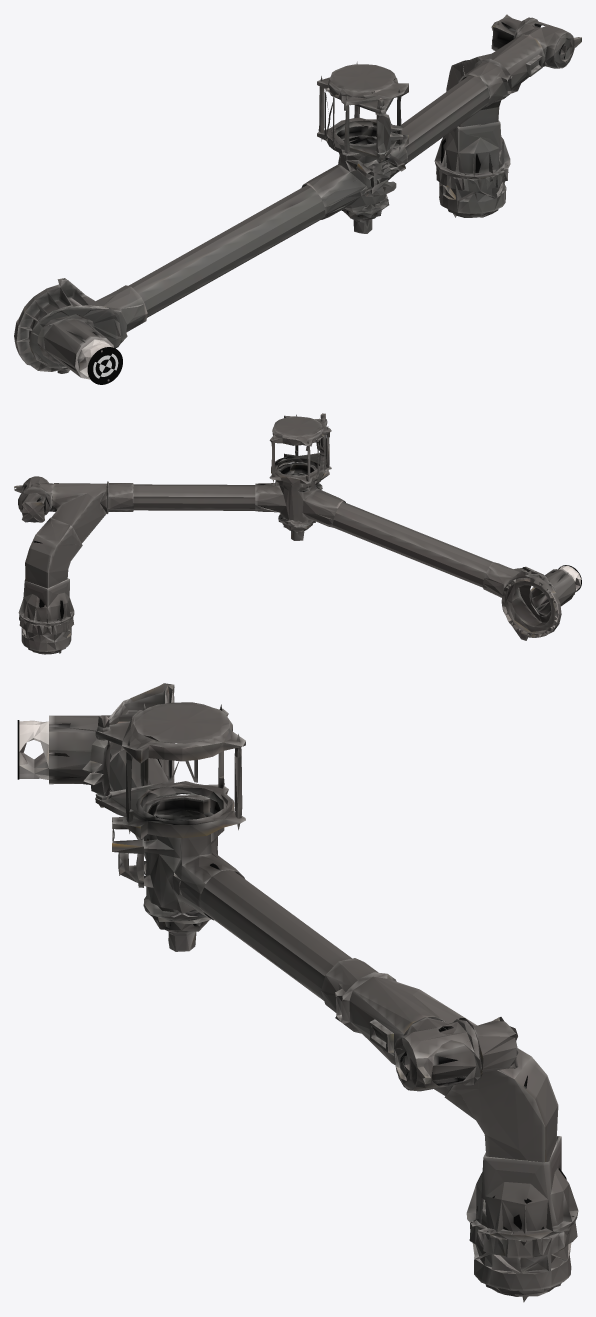
Rendered from bogie_right.obj.
The picture shows the model from 3 angles, top to bottom: view 1: azimuth 30°, elevation 25°; view 2: azimuth 150°, elevation 25°; view 3: azimuth 270°, elevation 25°; orthographic projection. The views are drawn at different scales.
Size of the model in its own units: 1.31 by 0.5249 by 0.6587.
Materials: 1 (1 with a texture image).
